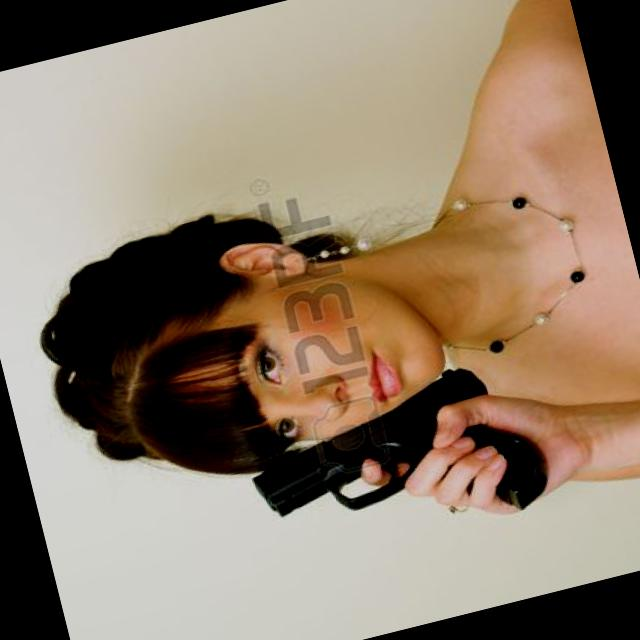handgun: (216, 358, 536, 578)
